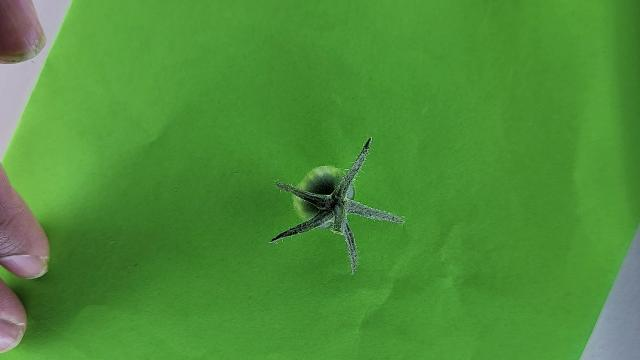Fruit Maturation: (293, 166, 352, 224)
